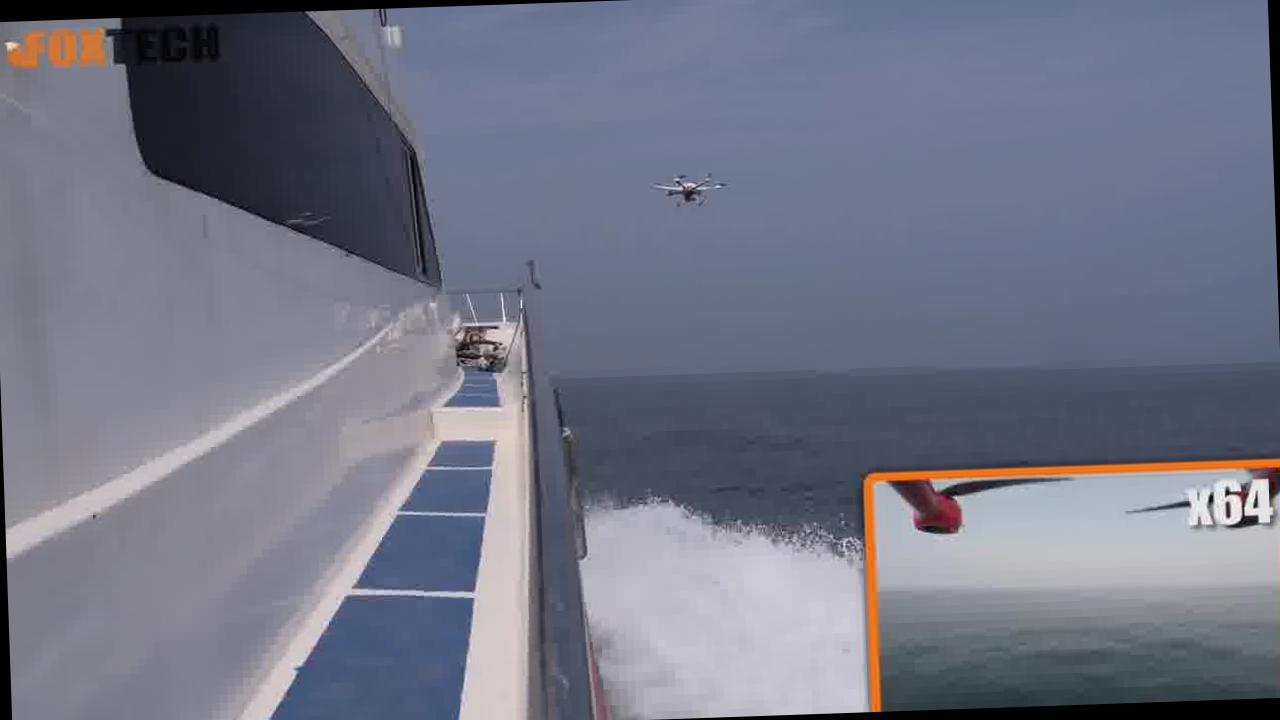drone: (644, 146, 746, 214)
